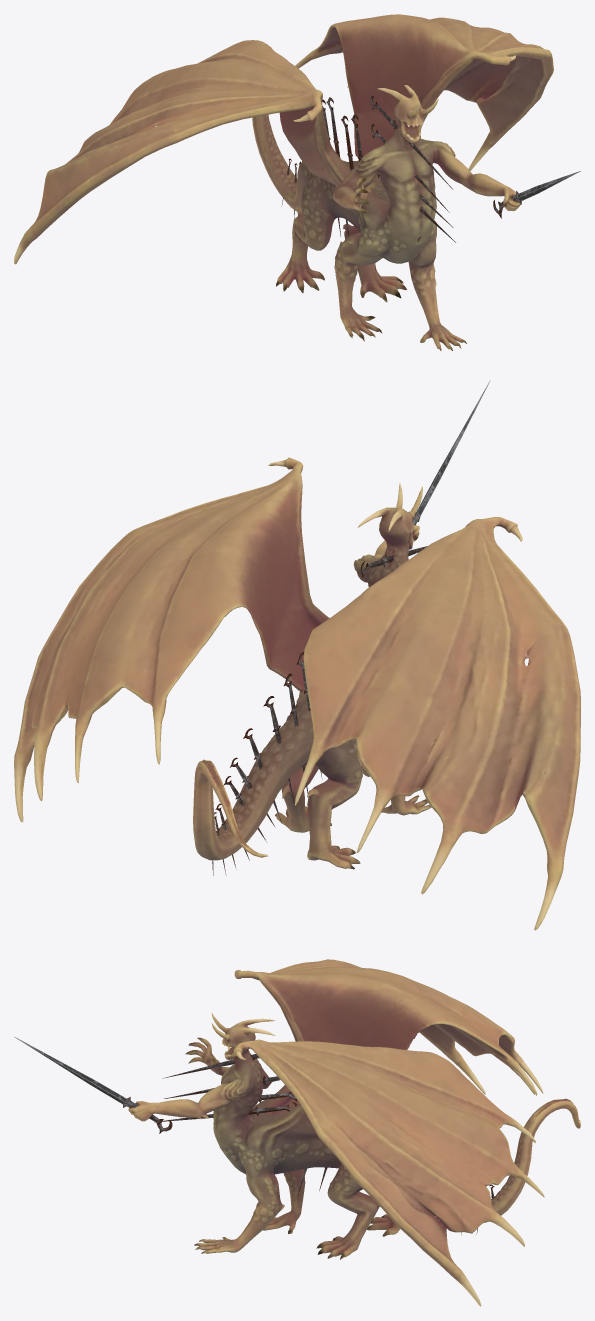
Rendered from MZ4250 - Rak Tulkhesh.glb.
3 renders of one model, top to bottom at view 1: azimuth 30°, elevation 25°; view 2: azimuth 150°, elevation 25°; view 3: azimuth 270°, elevation 25°, orthographic. The views are drawn at different scales.
Visible parts, largest first — view 1: Head Base Sphere.002; view 2: Head Base Sphere.002; view 3: Head Base Sphere.002.
Boxes of the visible parts, box(x1,y1,x2,y2) form: Head Base Sphere.002: box(14, 14, 580, 350); Head Base Sphere.002: box(14, 380, 580, 930); Head Base Sphere.002: box(14, 959, 580, 1306).
Size of the model in its own units: 10.76 by 5.54 by 12.15.
2 materials, 2 textured.
